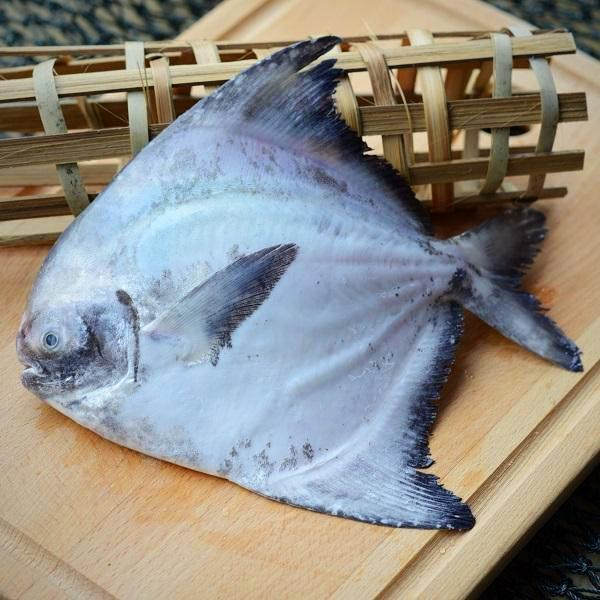Ikan Bawal: (17, 47, 581, 534)
